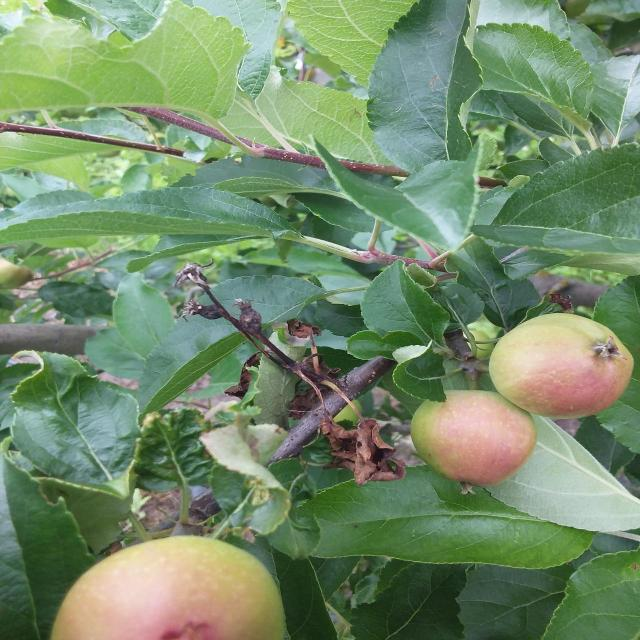-FireBlight-: (303, 369, 403, 478)
